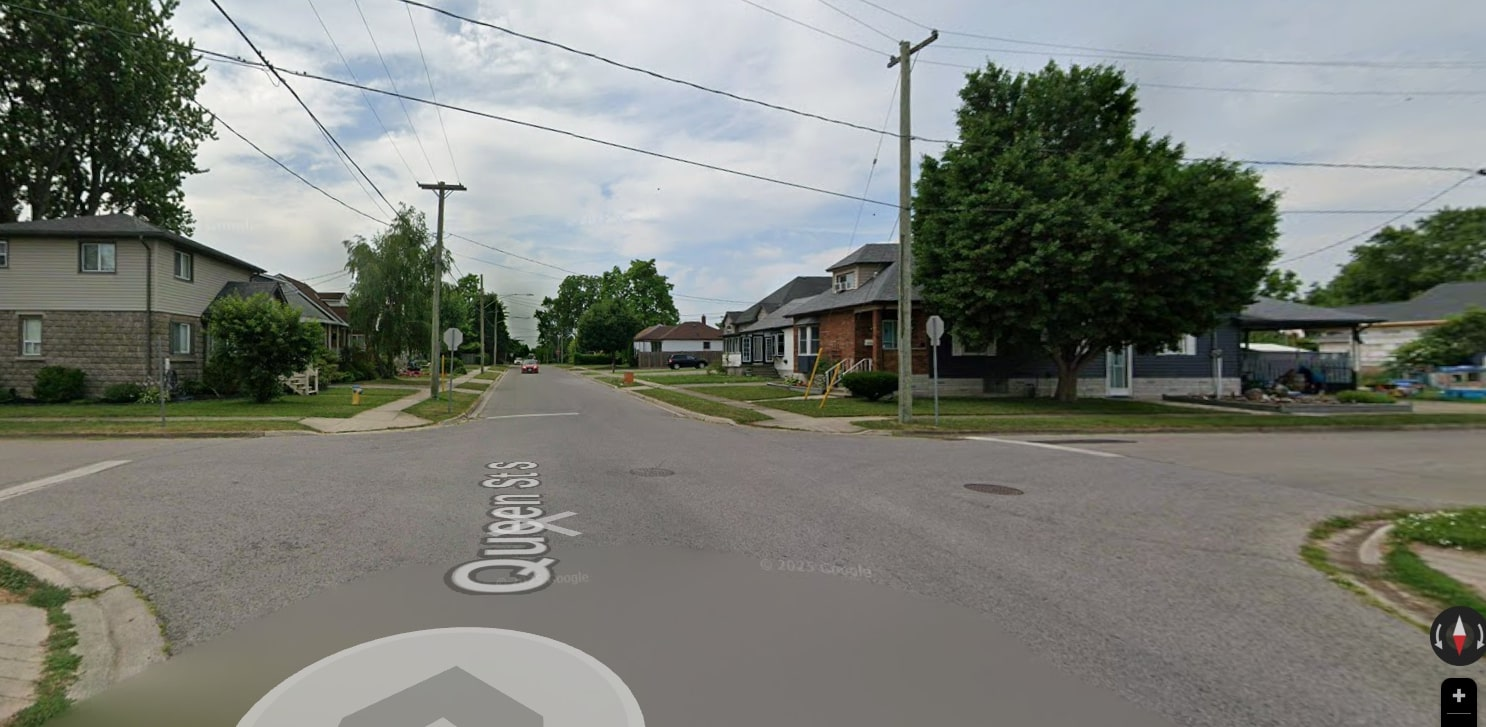cracks: (166, 511, 351, 595)
